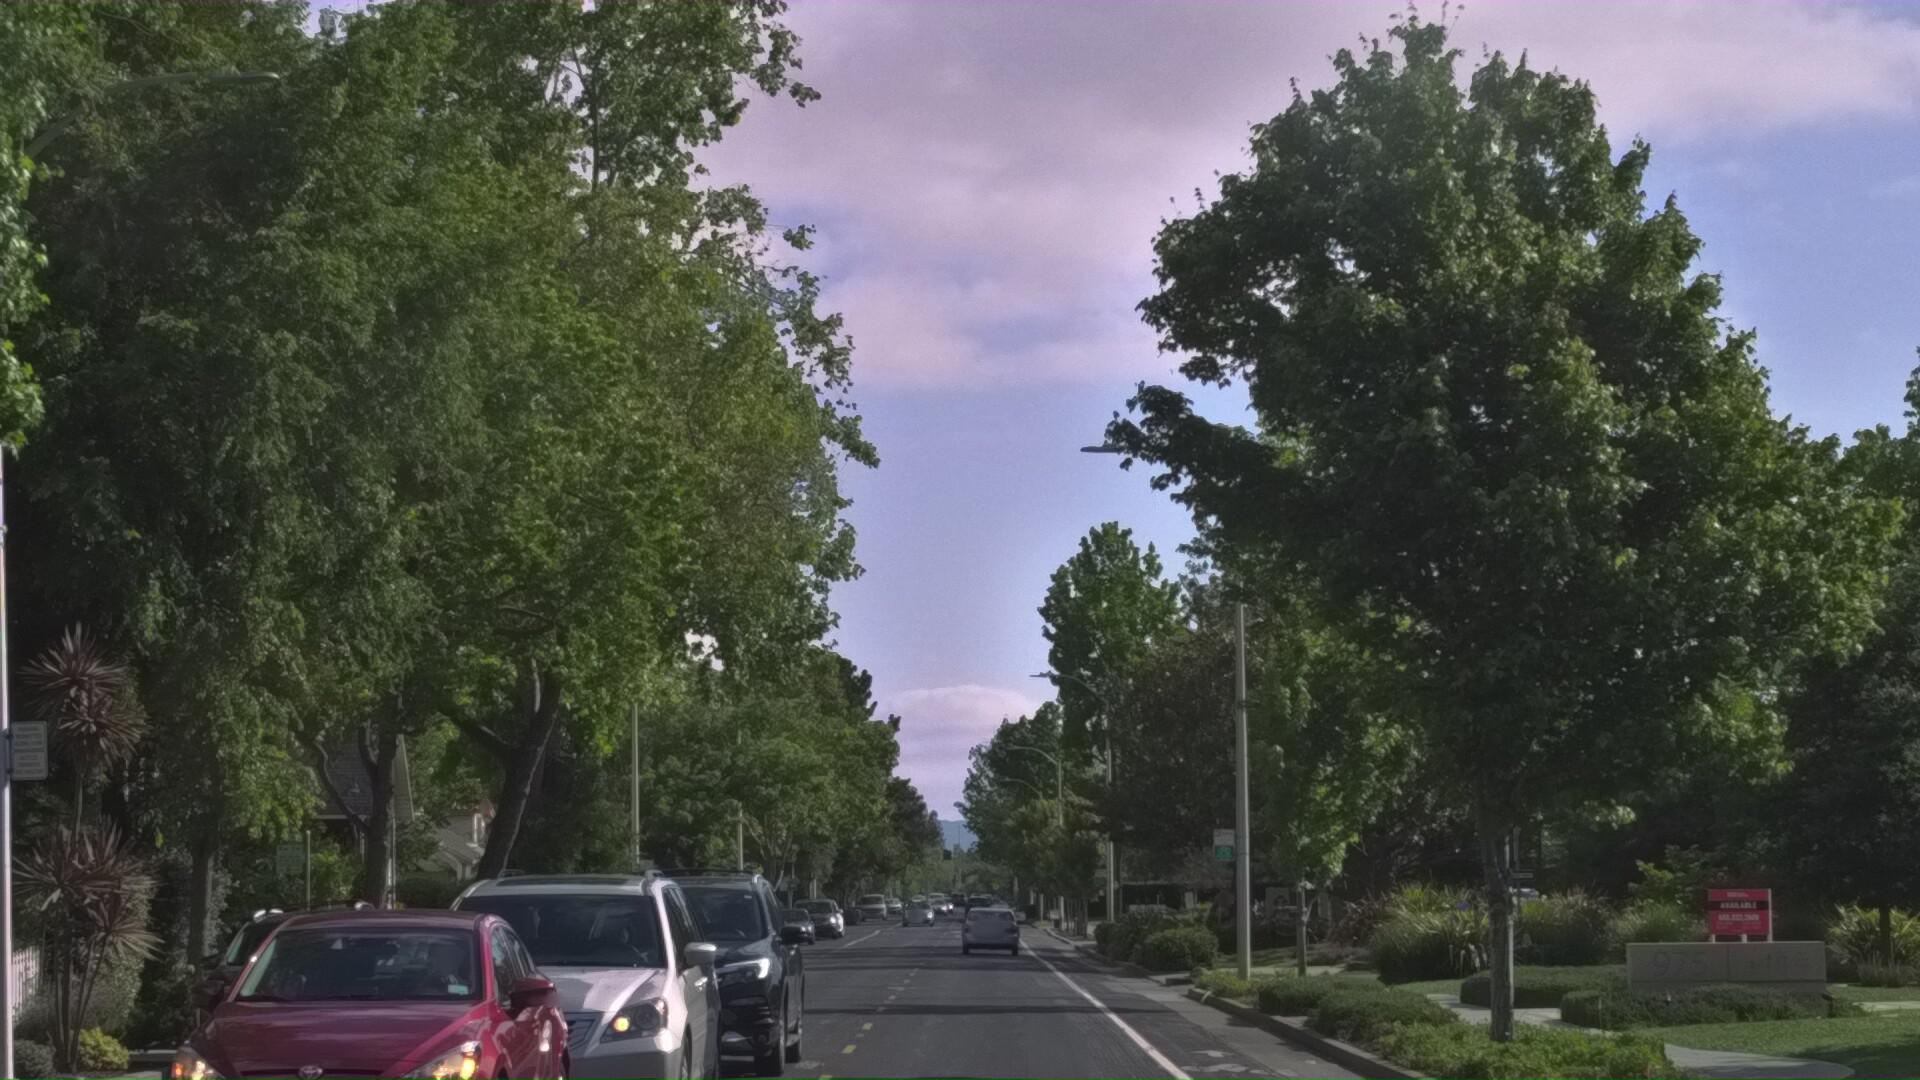bicycle: (0, 910, 9, 1080)
car: (116, 953, 591, 1080), (384, 924, 746, 1080), (564, 939, 819, 1080), (193, 978, 443, 1080)
